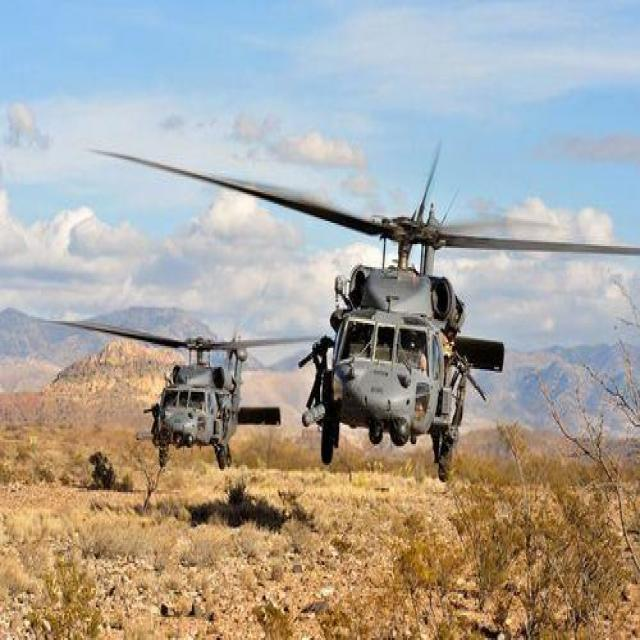MIL_HELO: (97, 126, 640, 476), (49, 295, 327, 479)
